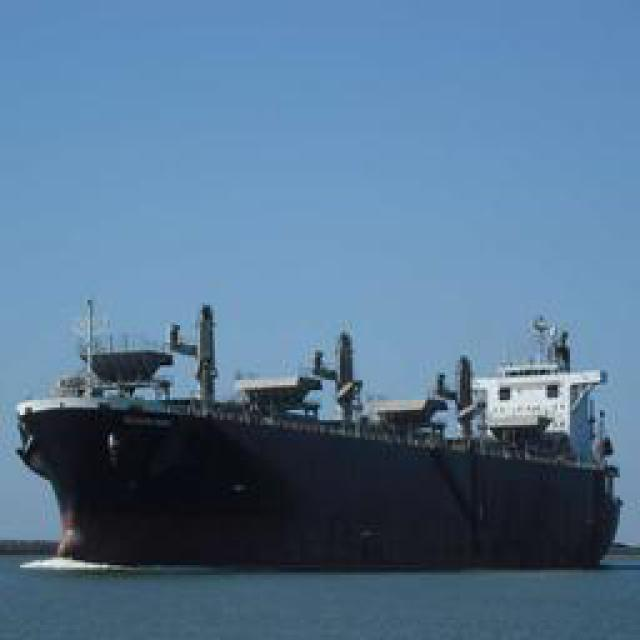Ship: (16, 307, 616, 570)
